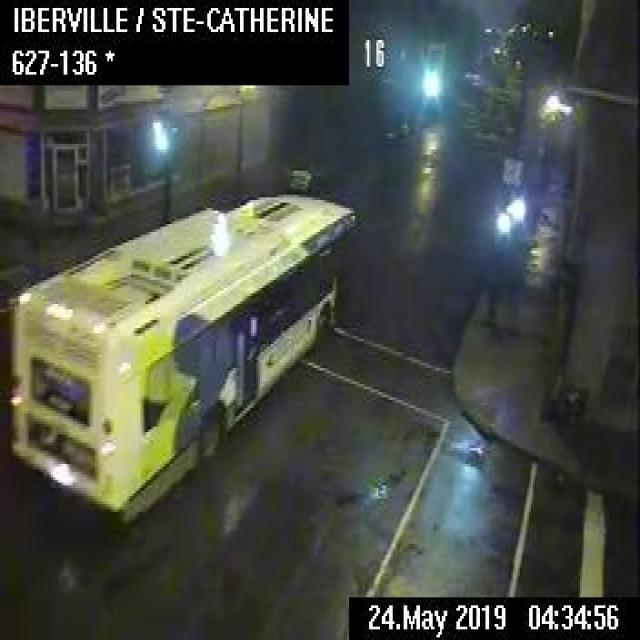bus: (5, 189, 358, 536)
